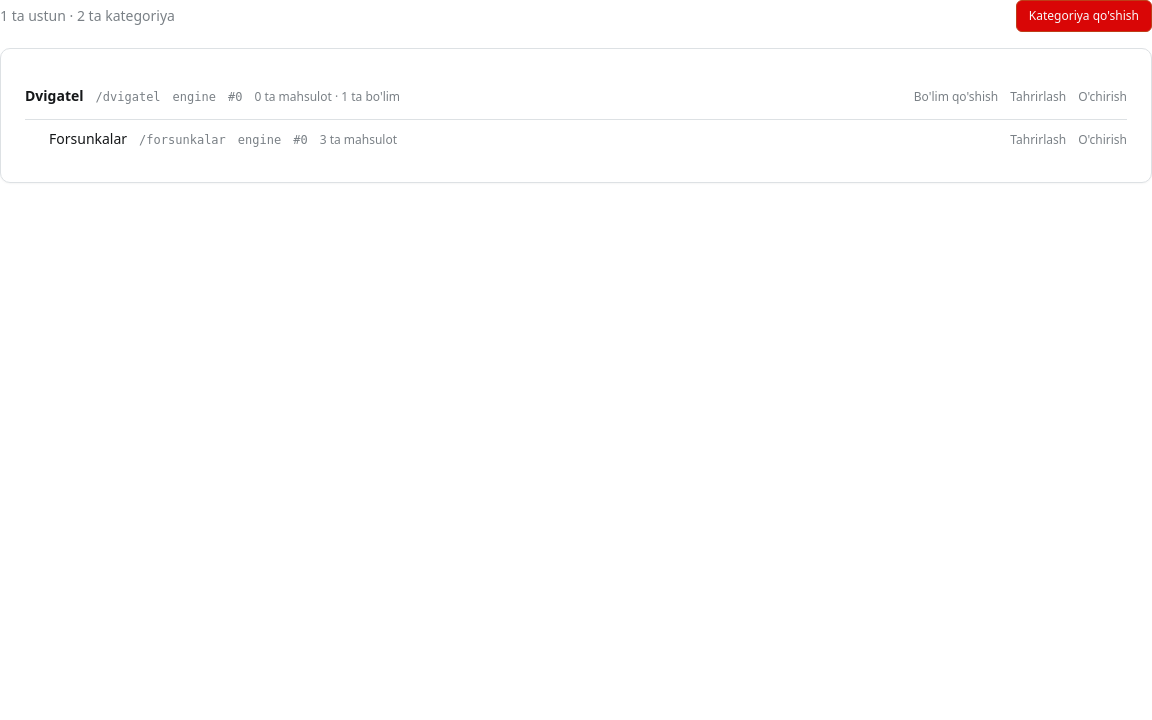
Test: CategoryManager adding a category › inherits the part family of the column a section is added to
Step 1. Click the button "Bo'lim qo'shish" → (956, 97), box top-left (914, 88), bottom-right (998, 106)
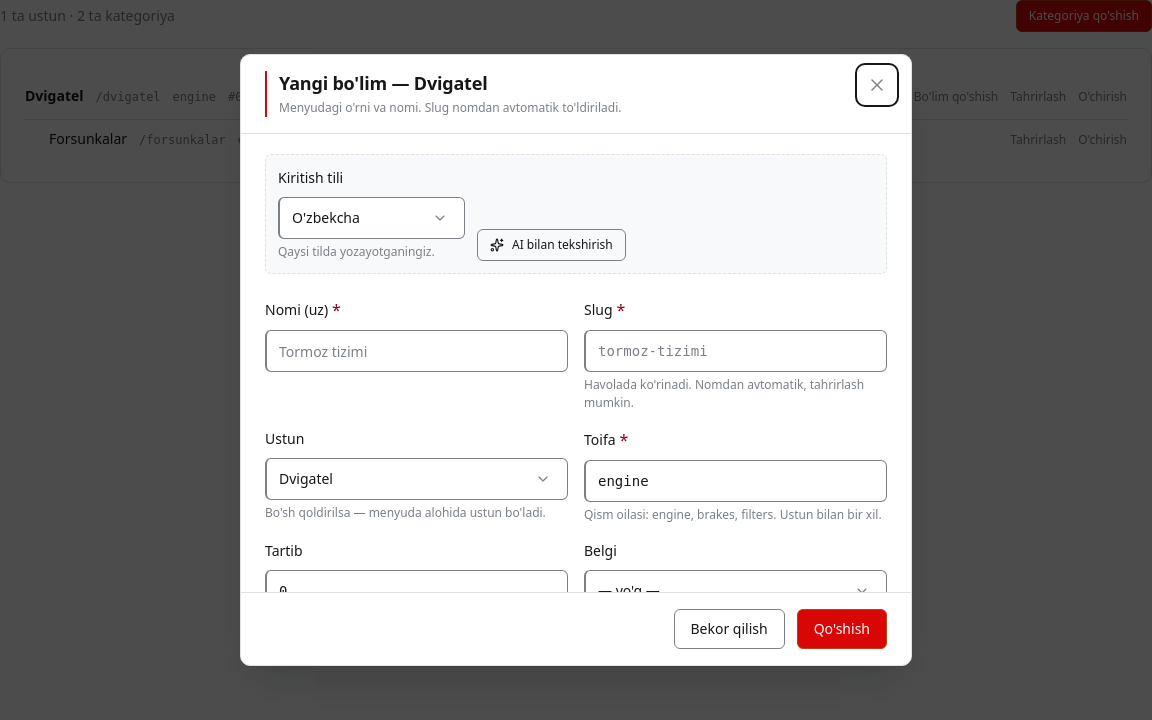
Check: the field labelled "Toifa" holds "engine", box top-left (598, 461), bottom-right (874, 501)
Check: the dropdown labelled "Ustun" shows "Dvigatel", box top-left (279, 459), bottom-right (555, 499)
